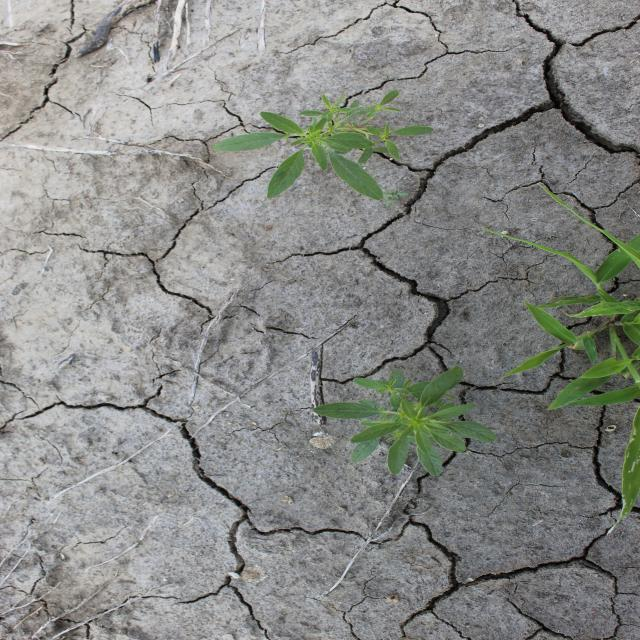Waterhemp: (212, 88, 436, 201), (311, 365, 498, 477)
